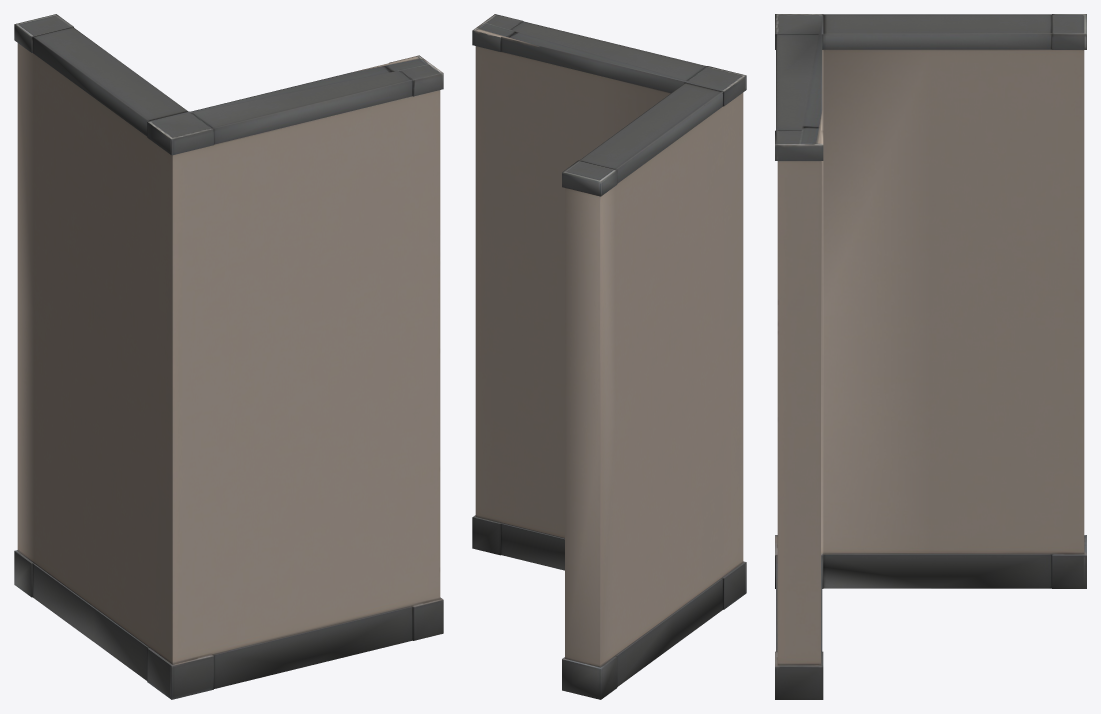
The model's file is ENV_Wall_Corner_A_v001.fbx.
3 renders of one model, left to right at view 1: azimuth 30°, elevation 25°; view 2: azimuth 150°, elevation 25°; view 3: azimuth 270°, elevation 25°, orthographic. The views are drawn at different scales.
Parts seen in each view (by area): view 1: 큐브_001; view 2: 큐브_001; view 3: 큐브_001.
Part boxes in pixels (x1,y1,x2,y2): 큐브_001: (14,14,443,699); 큐브_001: (472,14,746,699); 큐브_001: (775,14,1086,699).
Bounding box in the file's own units: 203 × 400 × 204.
1 material, 1 textured.
